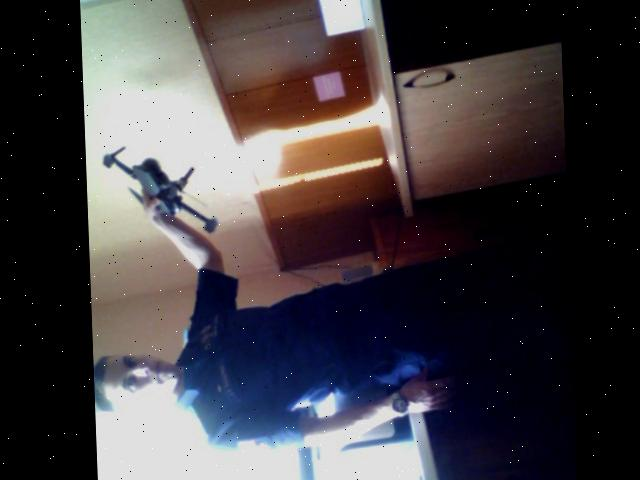drone: (99, 142, 216, 238)
